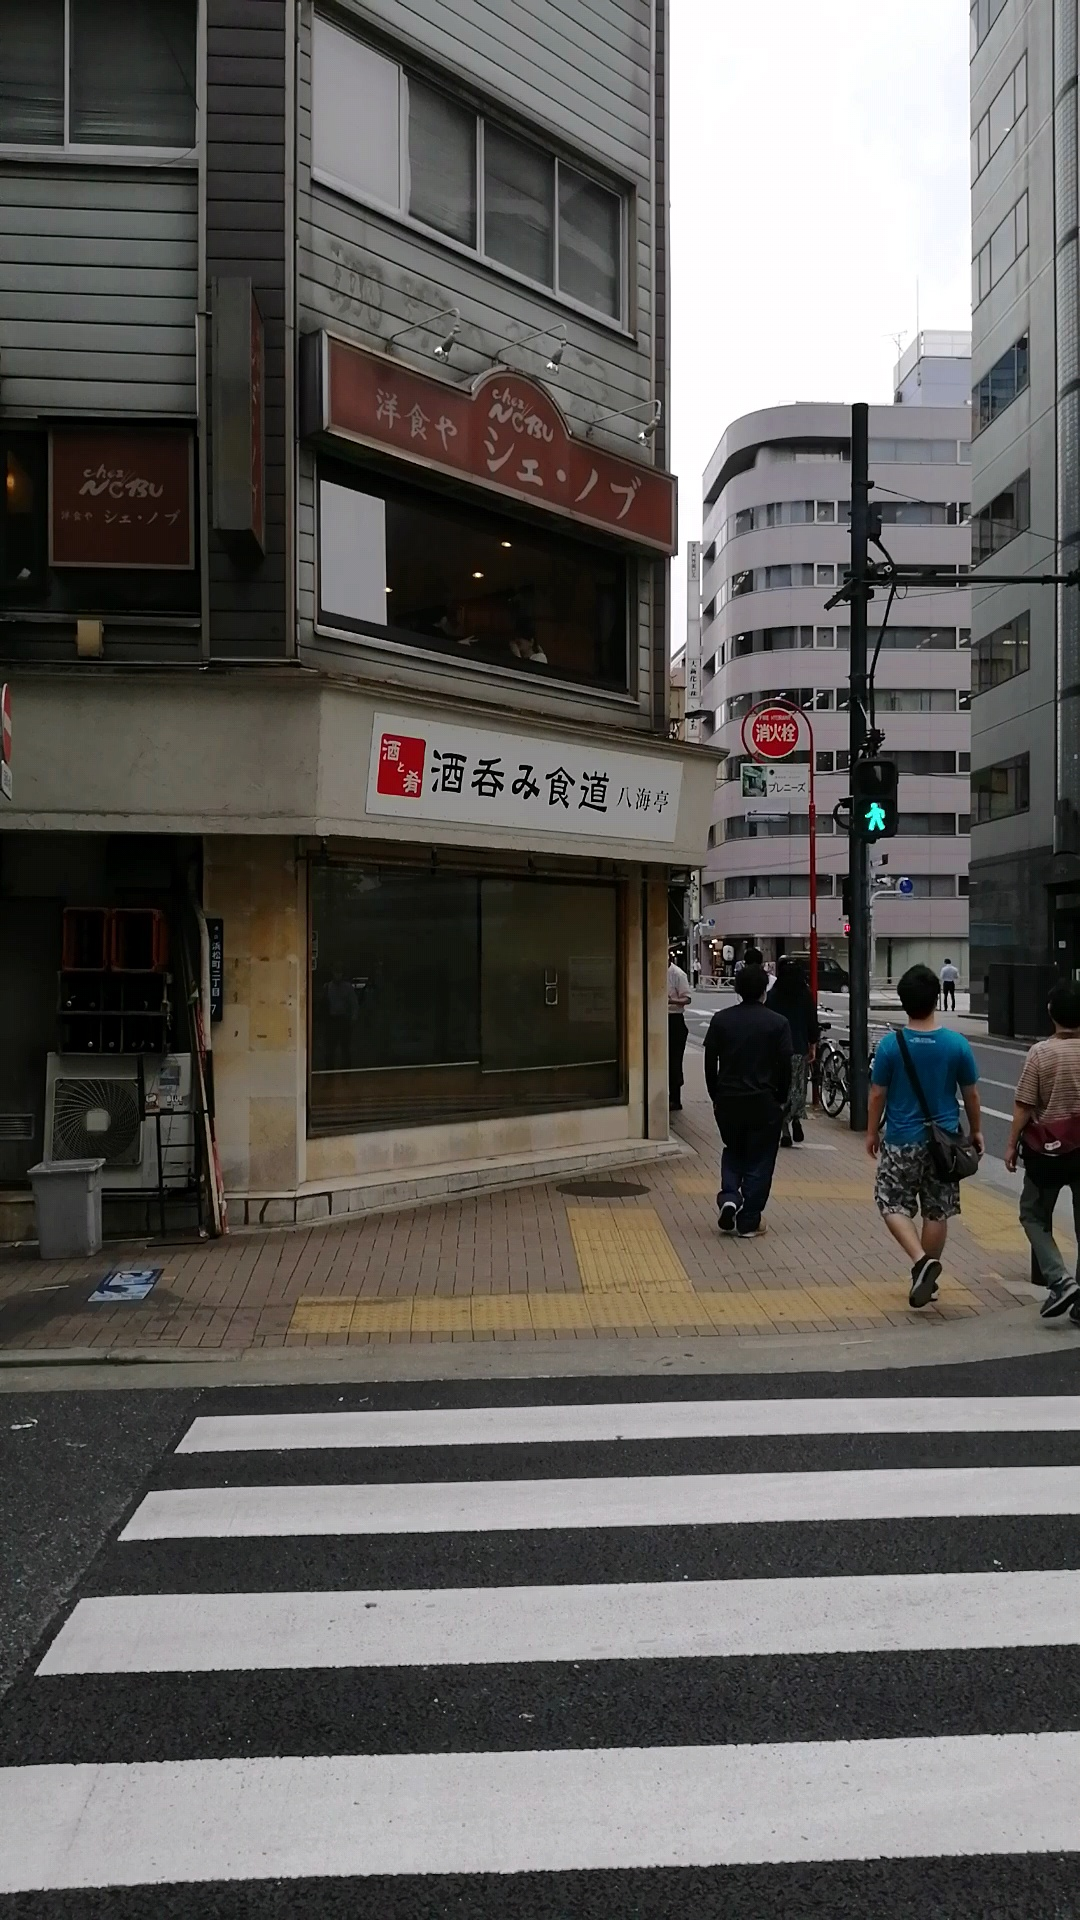green: (849, 760, 897, 835)
